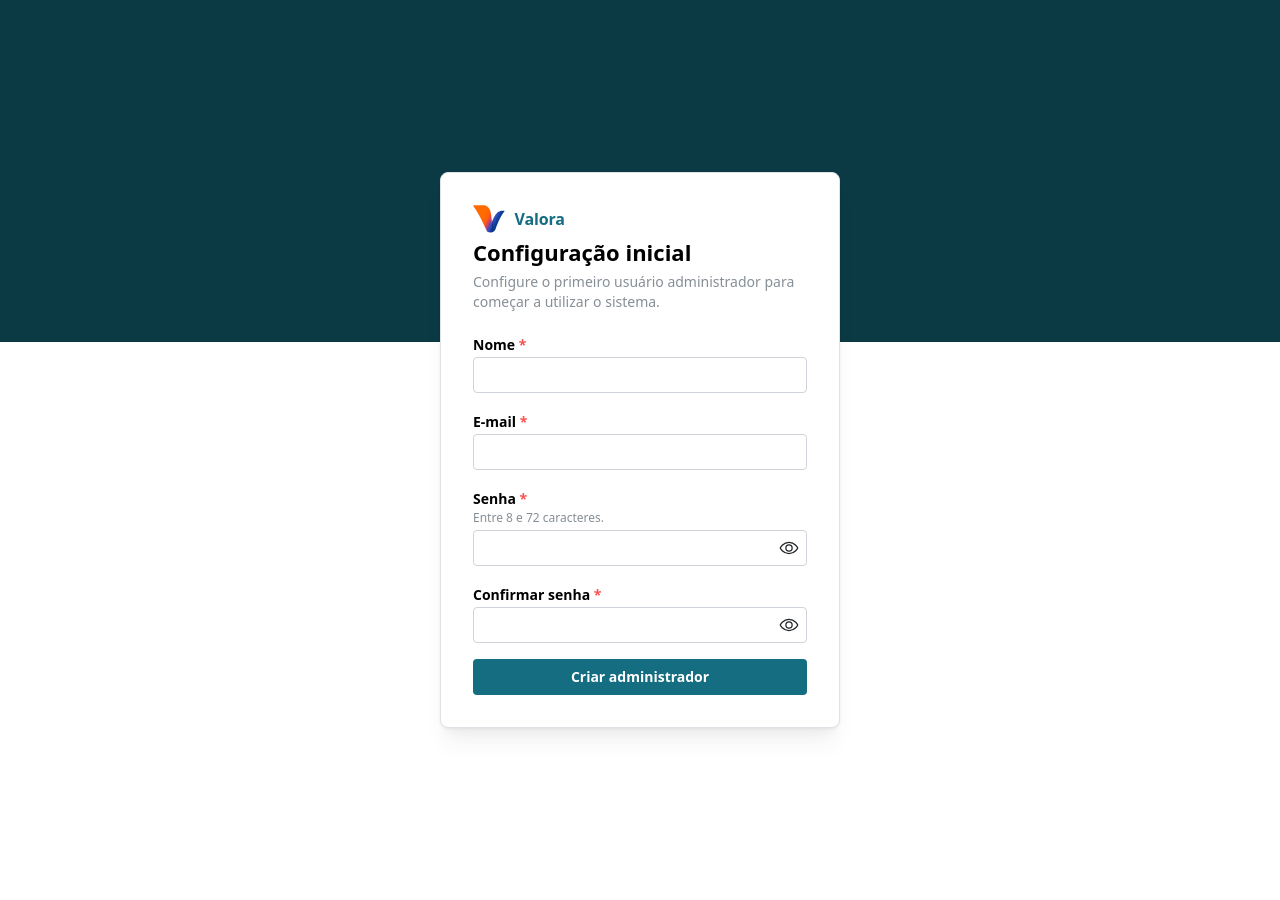
Test: configuração inicial › valida os campos antes de enviar
The image size is (1280, 900).
Click the button "Criar administrador": (640, 677) top-left (473, 659), bottom-right (807, 695)
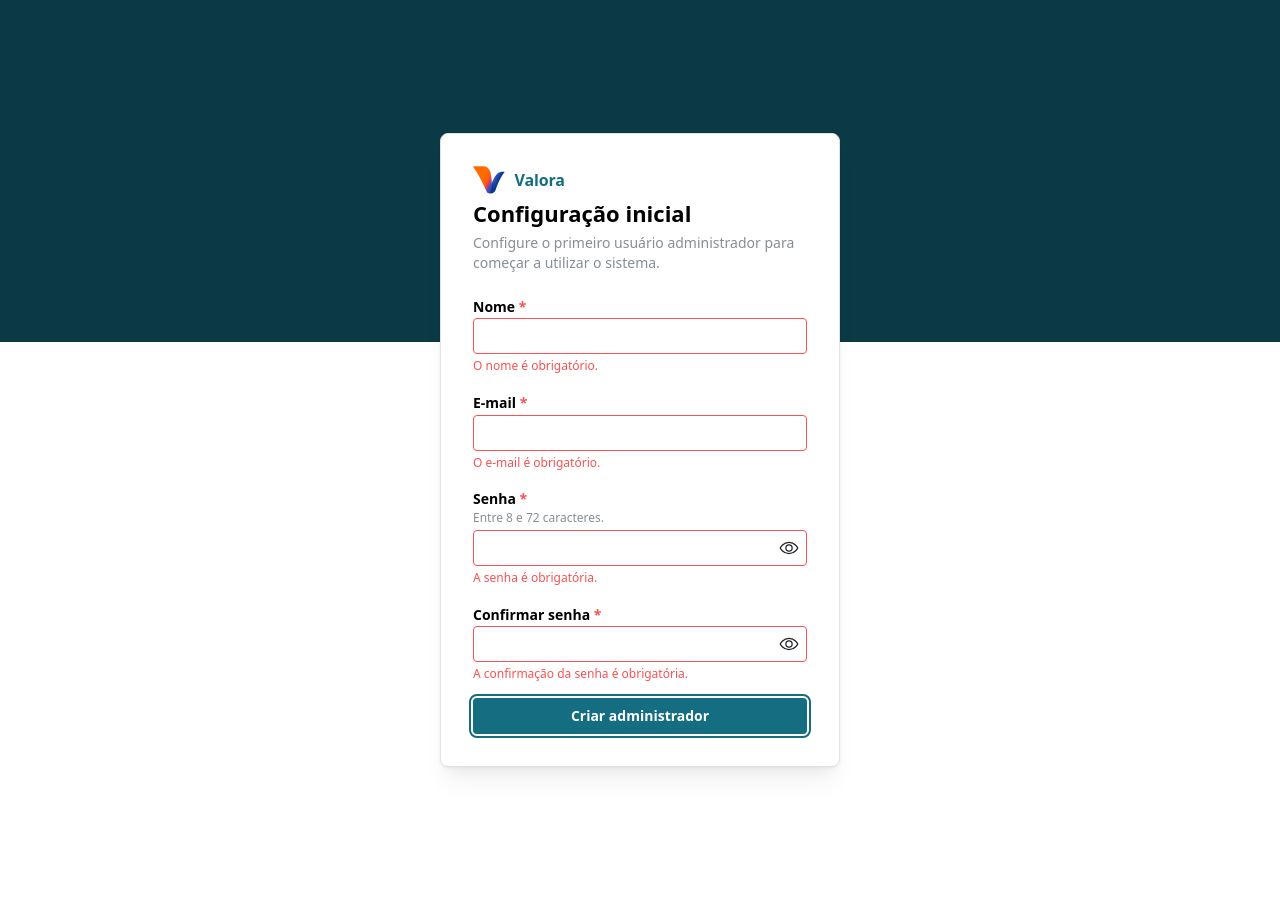
Check: the text "O nome é obrigatório." is shown, box top-left (473, 357), bottom-right (598, 374)
Check: the text "O e-mail é obrigatório." is shown, box top-left (473, 454), bottom-right (600, 471)
Check: the text "A senha é obrigatória." is shown, box top-left (473, 569), bottom-right (597, 586)
